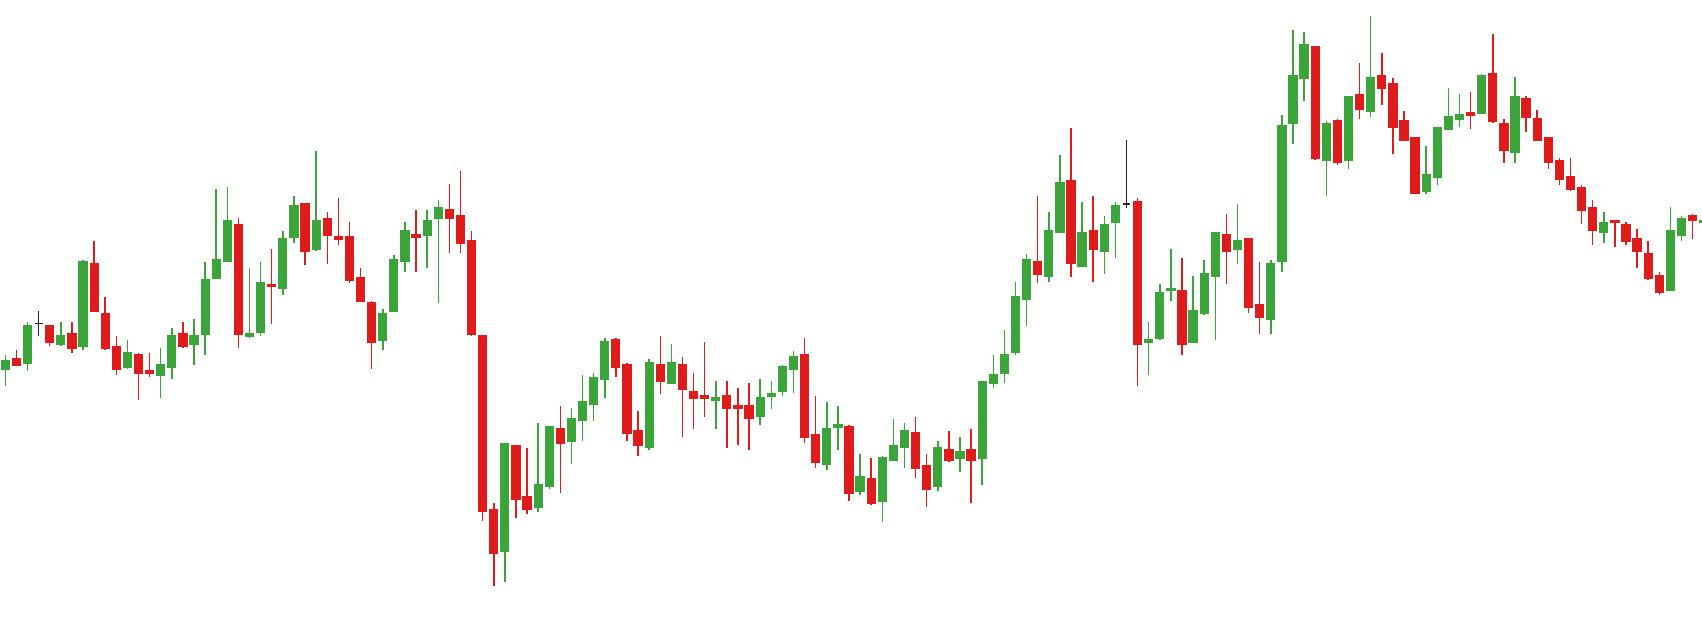buy: (232, 266, 388, 371)
sell: (697, 340, 812, 418)
